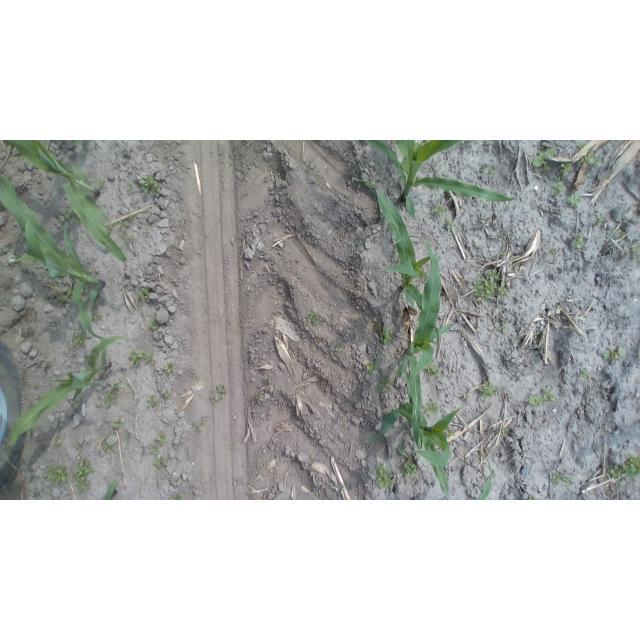Maize: (1, 173, 112, 344), (3, 333, 129, 483), (350, 177, 442, 359), (0, 141, 128, 264), (364, 141, 521, 226), (386, 233, 447, 448), (361, 372, 462, 501), (470, 456, 496, 501), (99, 473, 121, 500), (67, 140, 88, 146)
Weeds: (471, 267, 509, 303), (608, 454, 640, 481), (71, 457, 94, 493), (395, 448, 421, 479), (41, 463, 67, 488), (104, 379, 125, 409), (372, 464, 396, 490), (128, 347, 157, 367), (528, 386, 557, 406), (531, 148, 557, 170), (578, 143, 602, 165), (375, 323, 399, 345), (138, 175, 167, 193), (602, 345, 629, 364), (550, 470, 577, 488), (208, 382, 228, 405), (117, 218, 135, 242), (477, 381, 500, 399), (570, 231, 588, 252), (57, 209, 81, 223), (54, 285, 74, 301), (424, 364, 444, 380), (378, 373, 394, 393), (564, 192, 582, 209), (480, 163, 497, 180), (306, 309, 322, 327), (101, 437, 116, 455), (559, 161, 574, 179), (430, 203, 446, 219), (424, 401, 440, 417), (630, 240, 640, 265), (581, 366, 594, 385), (163, 360, 179, 375), (363, 362, 381, 375), (72, 331, 86, 347), (551, 179, 565, 195), (153, 457, 167, 472), (138, 286, 152, 301), (112, 416, 125, 432), (145, 394, 157, 410), (168, 490, 185, 500), (95, 178, 108, 191), (52, 435, 64, 449), (595, 212, 609, 224), (499, 323, 511, 336), (89, 313, 103, 324), (147, 320, 161, 331), (148, 443, 160, 455), (255, 392, 267, 404), (160, 388, 173, 399), (157, 432, 168, 444), (443, 217, 453, 230), (548, 247, 560, 257), (421, 267, 430, 280), (127, 213, 138, 223), (125, 180, 136, 190), (445, 429, 456, 439), (499, 250, 509, 260), (264, 373, 273, 384), (76, 443, 85, 454), (501, 427, 510, 438), (335, 345, 346, 354), (372, 354, 384, 362), (619, 229, 629, 238), (604, 230, 612, 241), (46, 359, 56, 367)
